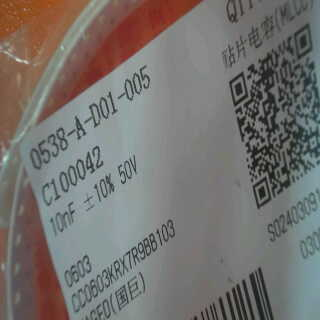10nF: (42, 197, 82, 242)
